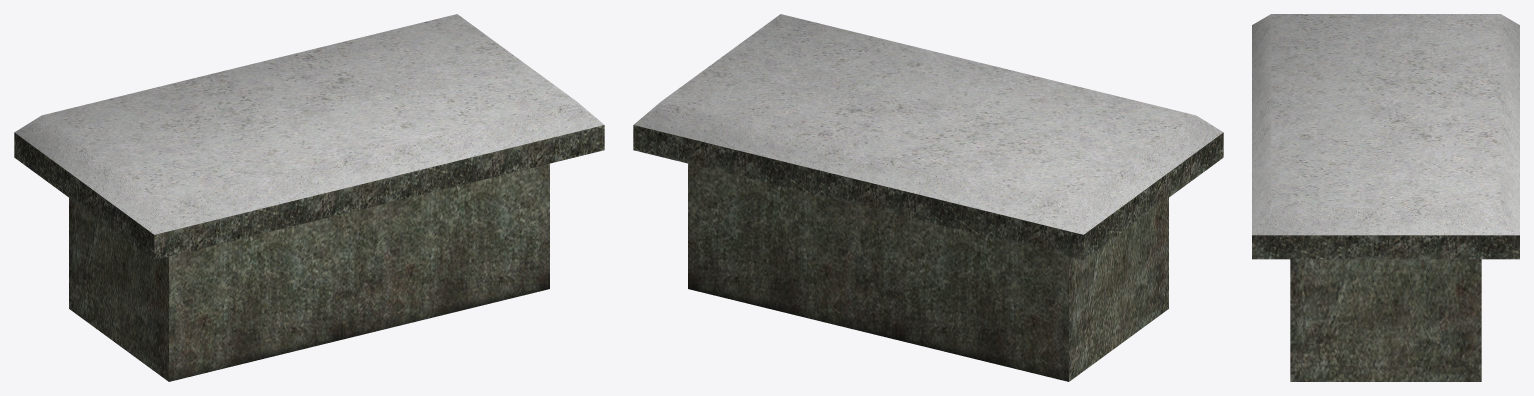
The model's file is tombstone_med_02_snow.fbx.
3 views of the same model, side by side, from view 1: azimuth 30°, elevation 25°; view 2: azimuth 150°, elevation 25°; view 3: azimuth 270°, elevation 25° (orthographic). The views are drawn at different scales.
Visible parts, largest first — view 1: mesh_2, mesh_0, mesh_1; view 2: mesh_2, mesh_0, mesh_1; view 3: mesh_2, mesh_0, mesh_1.
Part boxes in pixels (x1,y1,x2,y2): mesh_2: (14,14,603,234); mesh_0: (69,163,549,381); mesh_1: (14,125,604,259); mesh_2: (634,14,1223,234); mesh_0: (688,163,1168,381); mesh_1: (633,125,1223,259); mesh_2: (1252,14,1519,235); mesh_0: (1290,259,1481,381); mesh_1: (1252,235,1519,259).
Size of the model in its own units: 260 by 105 by 140.
Materials: 2 (2 with a texture image).
